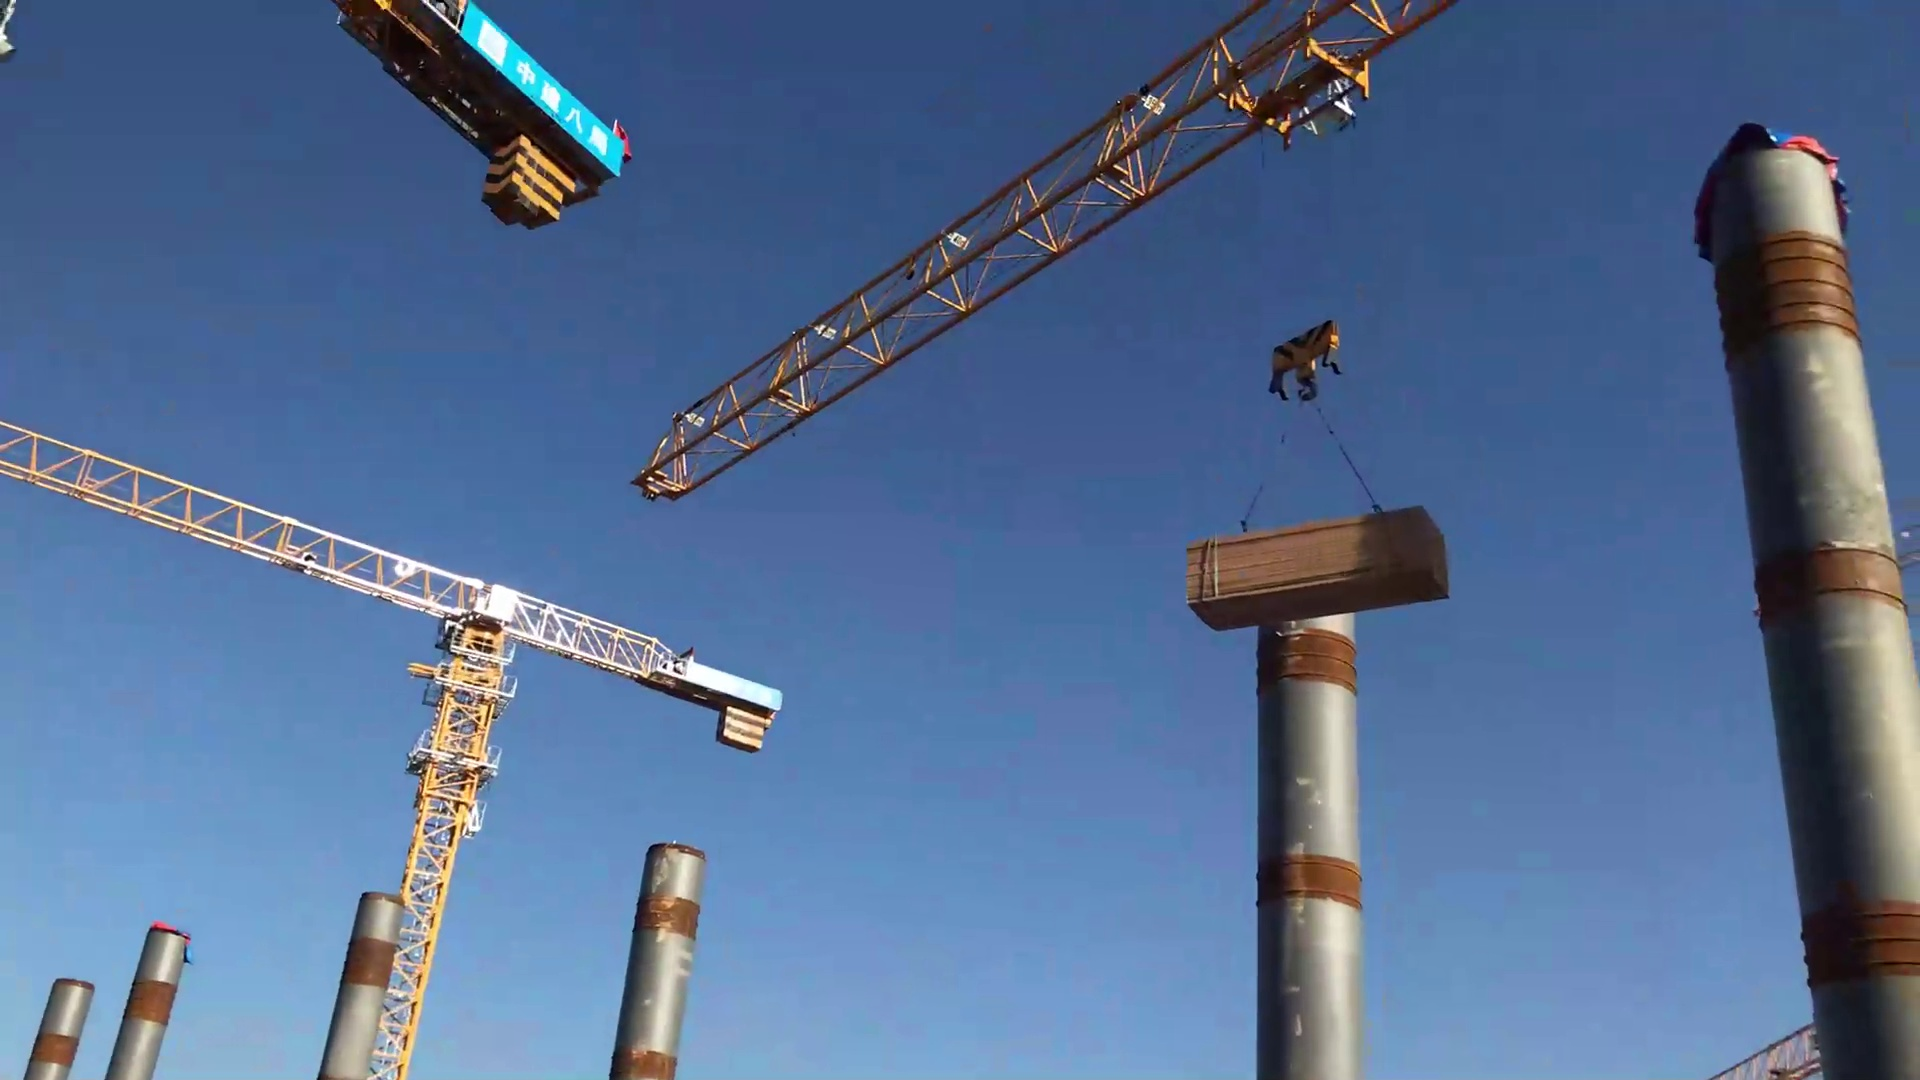hook: (1261, 309, 1360, 411)
wood: (1180, 500, 1460, 634)
